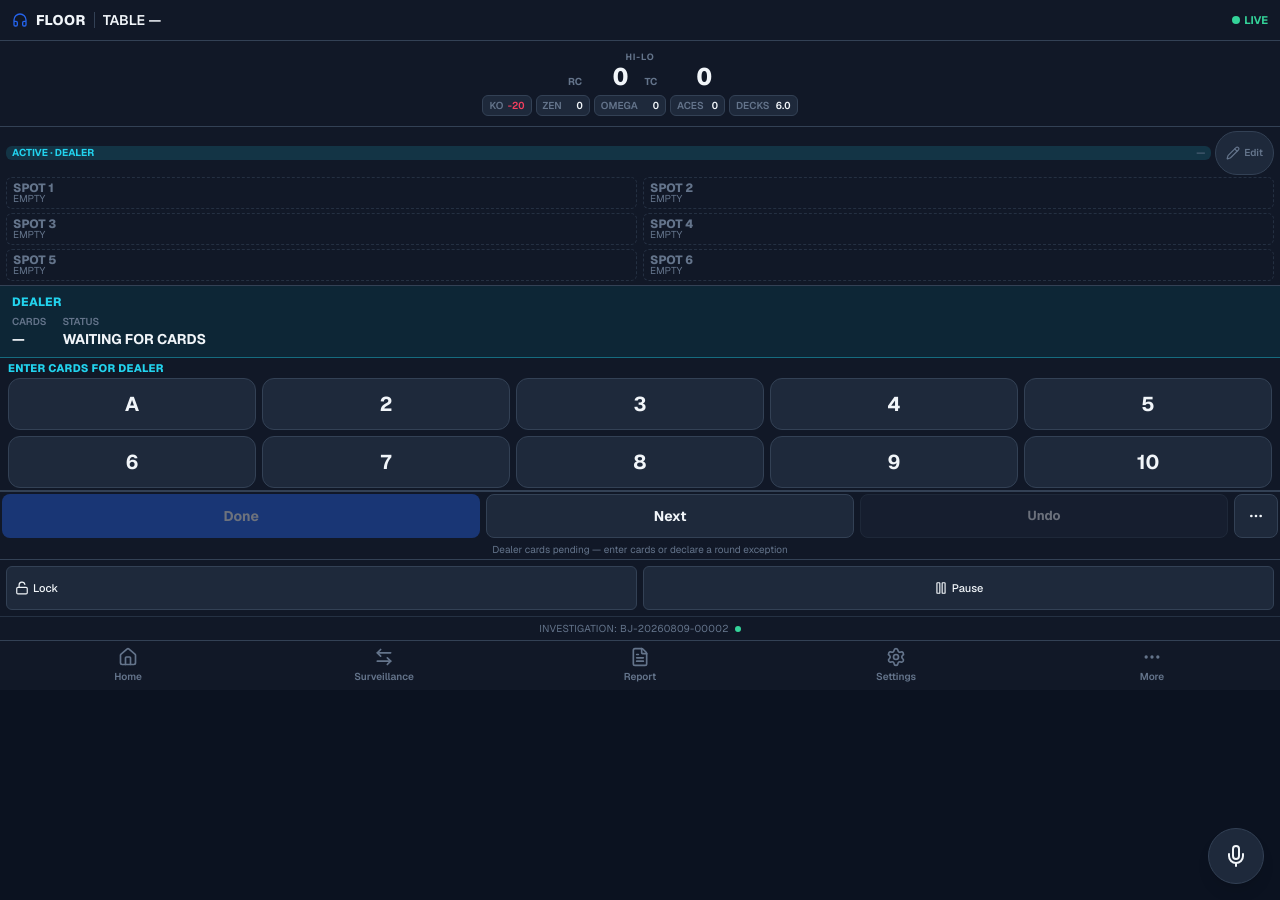
Scenario: FloorScreen — More menu, Pause/Lock, and closed-investigation state (AGENTS.md operational UI rebuild §12/§13/§15) › BottomNavigation's More button opens the shared More sheet, with New Shoe and End & Review reachable — not a stripped-down or missing menu
Click the button "More": {"x": 1152, "y": 666} x1=1024 y1=641 x2=1279 y2=690
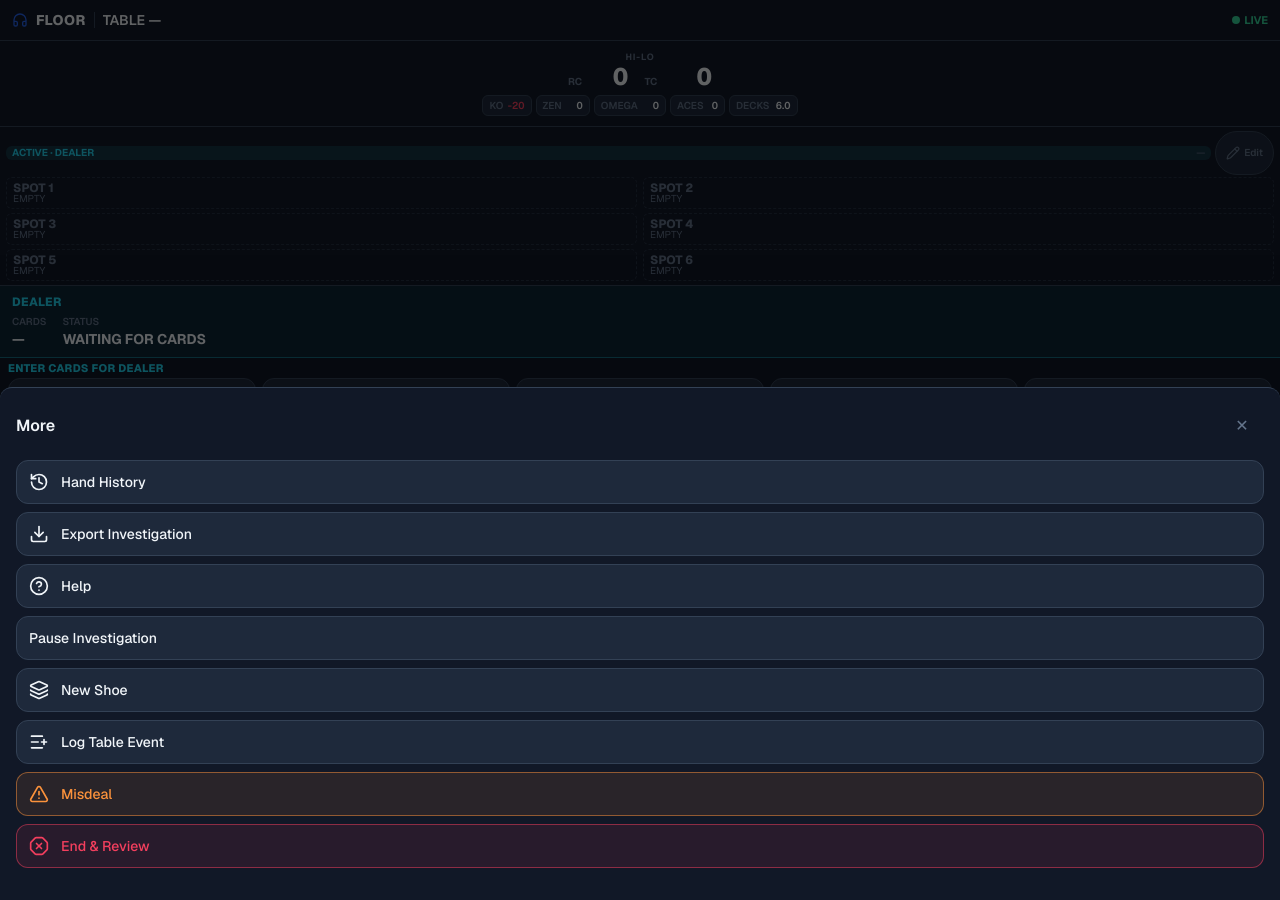
Expected: the button "New Shoe" is shown, x1=16 y1=668 x2=1264 y2=712
Expected: the button "End & Review" is shown, x1=16 y1=824 x2=1264 y2=868
